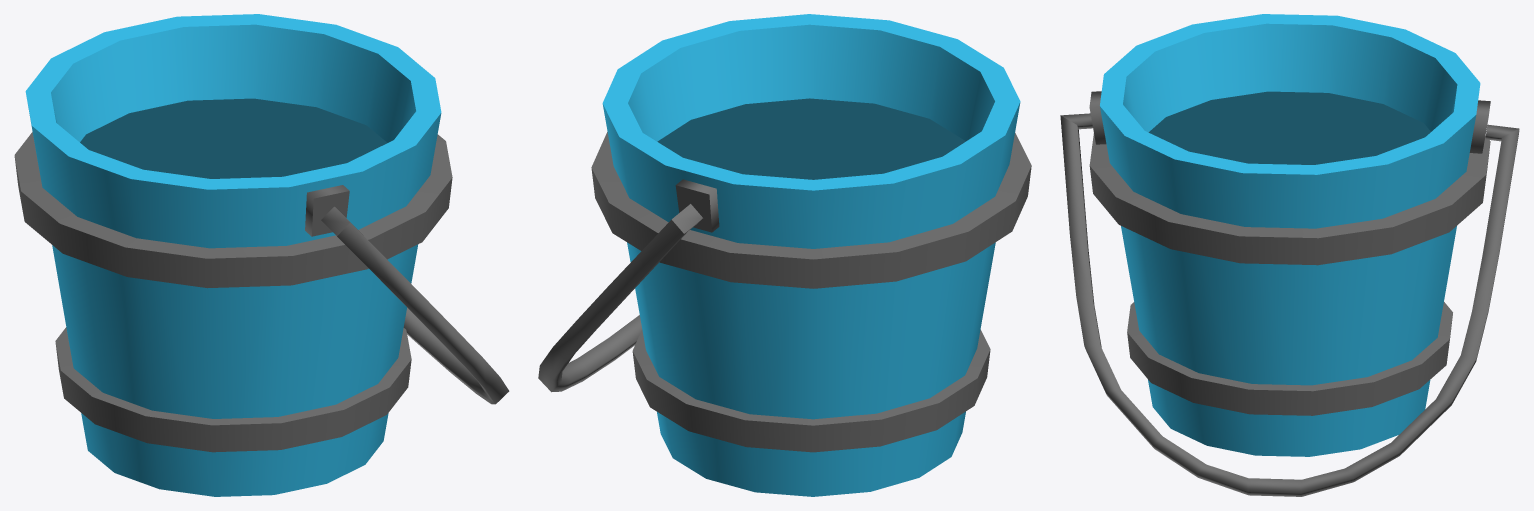
File: Bucket.fbx
3 renders of one model, left to right at view 1: azimuth 30°, elevation 25°; view 2: azimuth 150°, elevation 25°; view 3: azimuth 270°, elevation 25°, orthographic. The views are drawn at different scales.
Parts seen in each view (by area): view 1: Bucket; view 2: Bucket; view 3: Bucket.
Part boxes in pixels (<box>): Bucket: <box>14,14,509,496</box>; Bucket: <box>538,14,1031,496</box>; Bucket: <box>1060,14,1519,496</box>.
Size of the model in its own units: 125 by 93.19 by 127.
